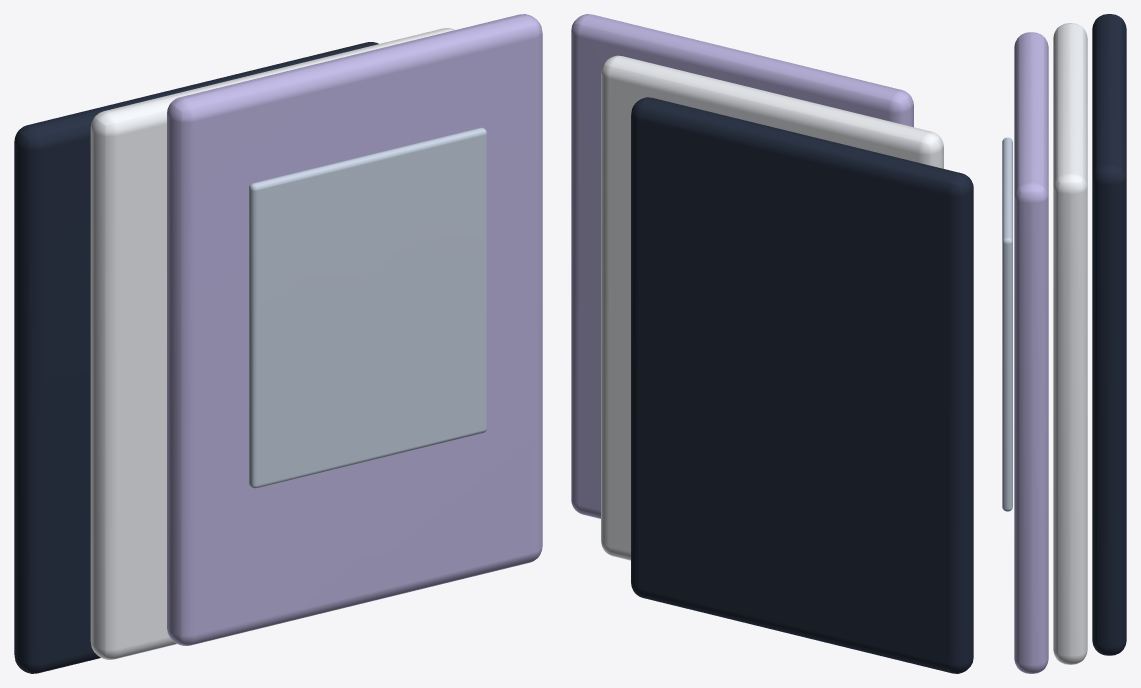
Rendered from archive.glb.
3 views of the same model, side by side, from view 1: azimuth 30°, elevation 25°; view 2: azimuth 150°, elevation 25°; view 3: azimuth 270°, elevation 25° (orthographic). The views are drawn at different scales.
Visible parts, largest first — view 1: Folio_silk, Folio_alloy, Folio_porcelain, Folio_graphite; view 2: Folio_graphite, Folio_porcelain, Folio_silk; view 3: Folio_porcelain, Folio_graphite, Folio_silk, Folio_alloy.
Boxes of the visible parts, bbox=[...] form: Folio_silk: bbox=[167, 14, 542, 645]; Folio_alloy: bbox=[249, 127, 486, 488]; Folio_porcelain: bbox=[90, 28, 454, 659]; Folio_graphite: bbox=[14, 42, 378, 673]; Folio_graphite: bbox=[631, 97, 973, 673]; Folio_porcelain: bbox=[601, 55, 943, 560]; Folio_silk: bbox=[571, 14, 913, 518]; Folio_porcelain: bbox=[1053, 23, 1087, 664]; Folio_graphite: bbox=[1092, 14, 1126, 655]; Folio_silk: bbox=[1014, 32, 1048, 673]; Folio_alloy: bbox=[1002, 137, 1012, 511].
Bounding box in the file's own units: 0.79 × 0.912 × 0.198.
